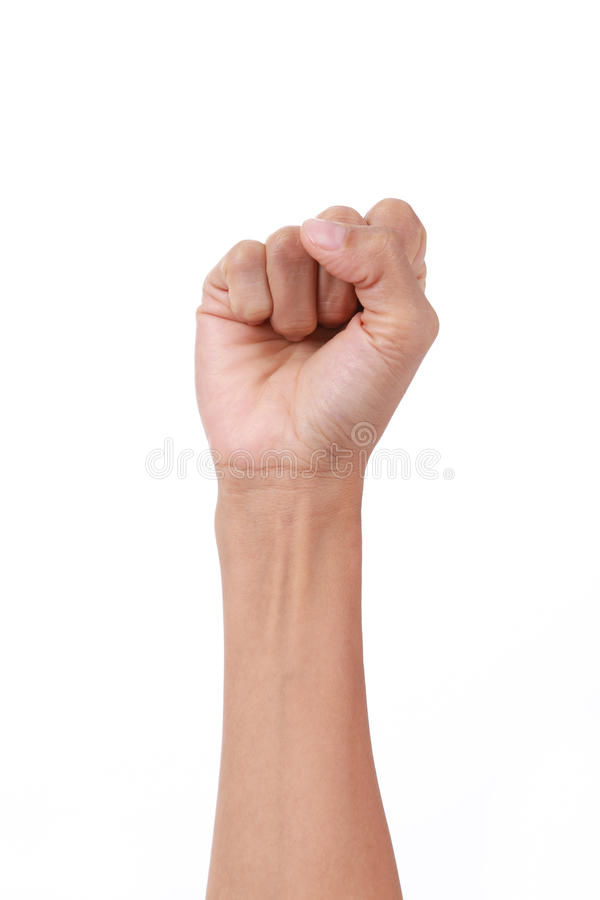fist: (176, 195, 451, 477)
